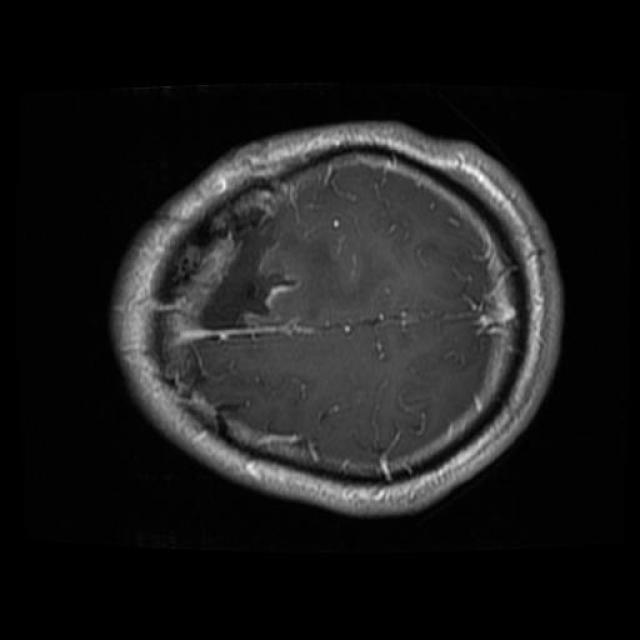Glioma: (161, 181, 294, 330)
